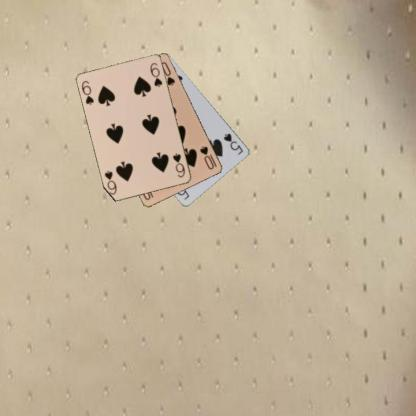10s: (198, 144, 218, 171)
5s: (222, 130, 244, 156)
6s: (170, 150, 186, 178), (79, 78, 95, 106)
